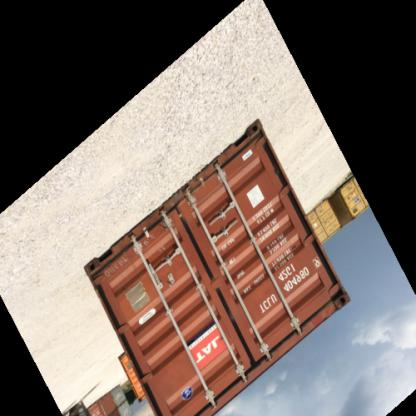Damage: (162, 195, 198, 227)
